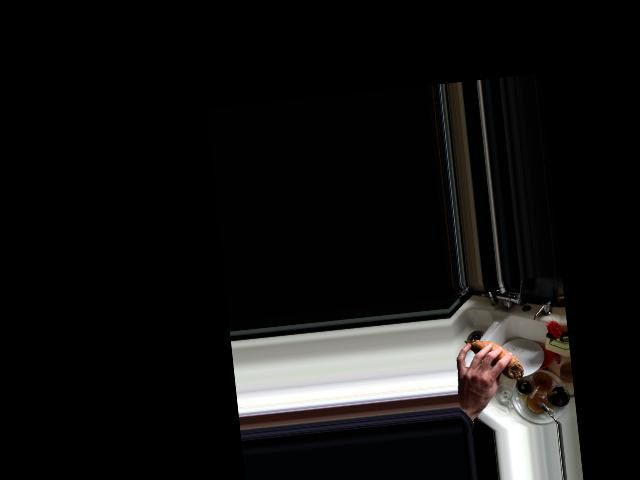sweet_potato: (463, 335, 522, 384)
